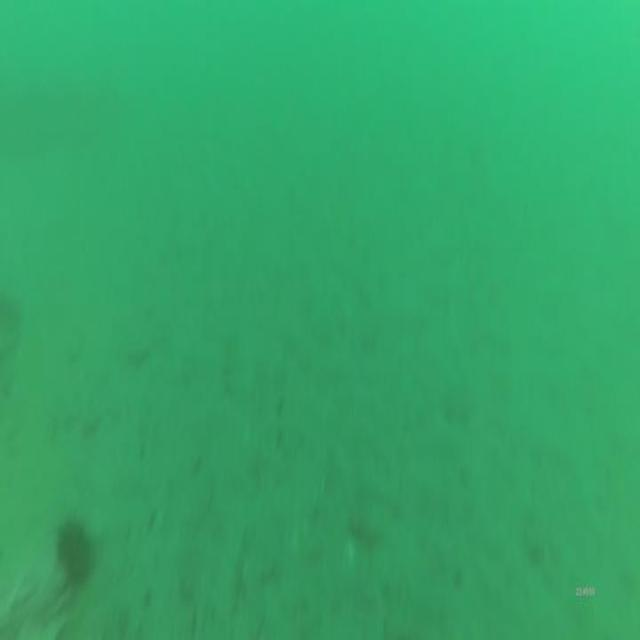echinus: (51, 517, 97, 594)
